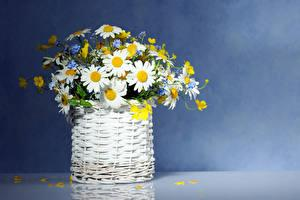chamomile: (131, 59, 160, 88), (103, 54, 132, 74), (85, 64, 104, 91), (64, 25, 93, 41), (56, 85, 71, 115), (95, 25, 124, 40), (58, 67, 87, 82), (100, 83, 118, 105)
